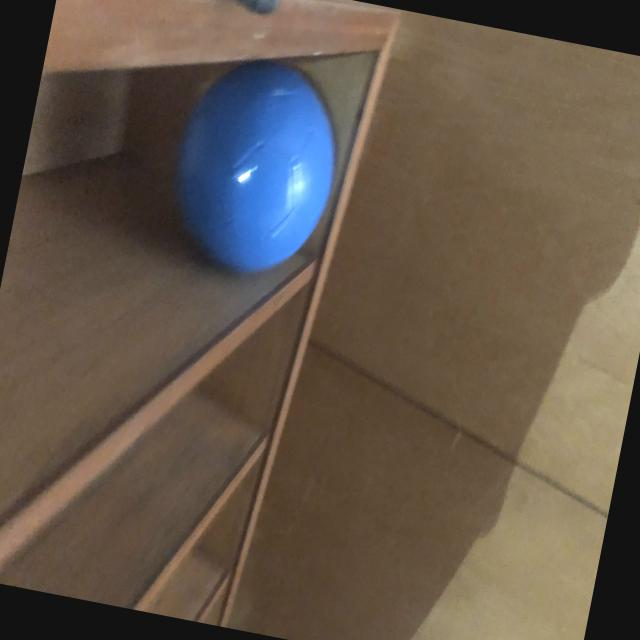blue_ball: (154, 41, 354, 292)
